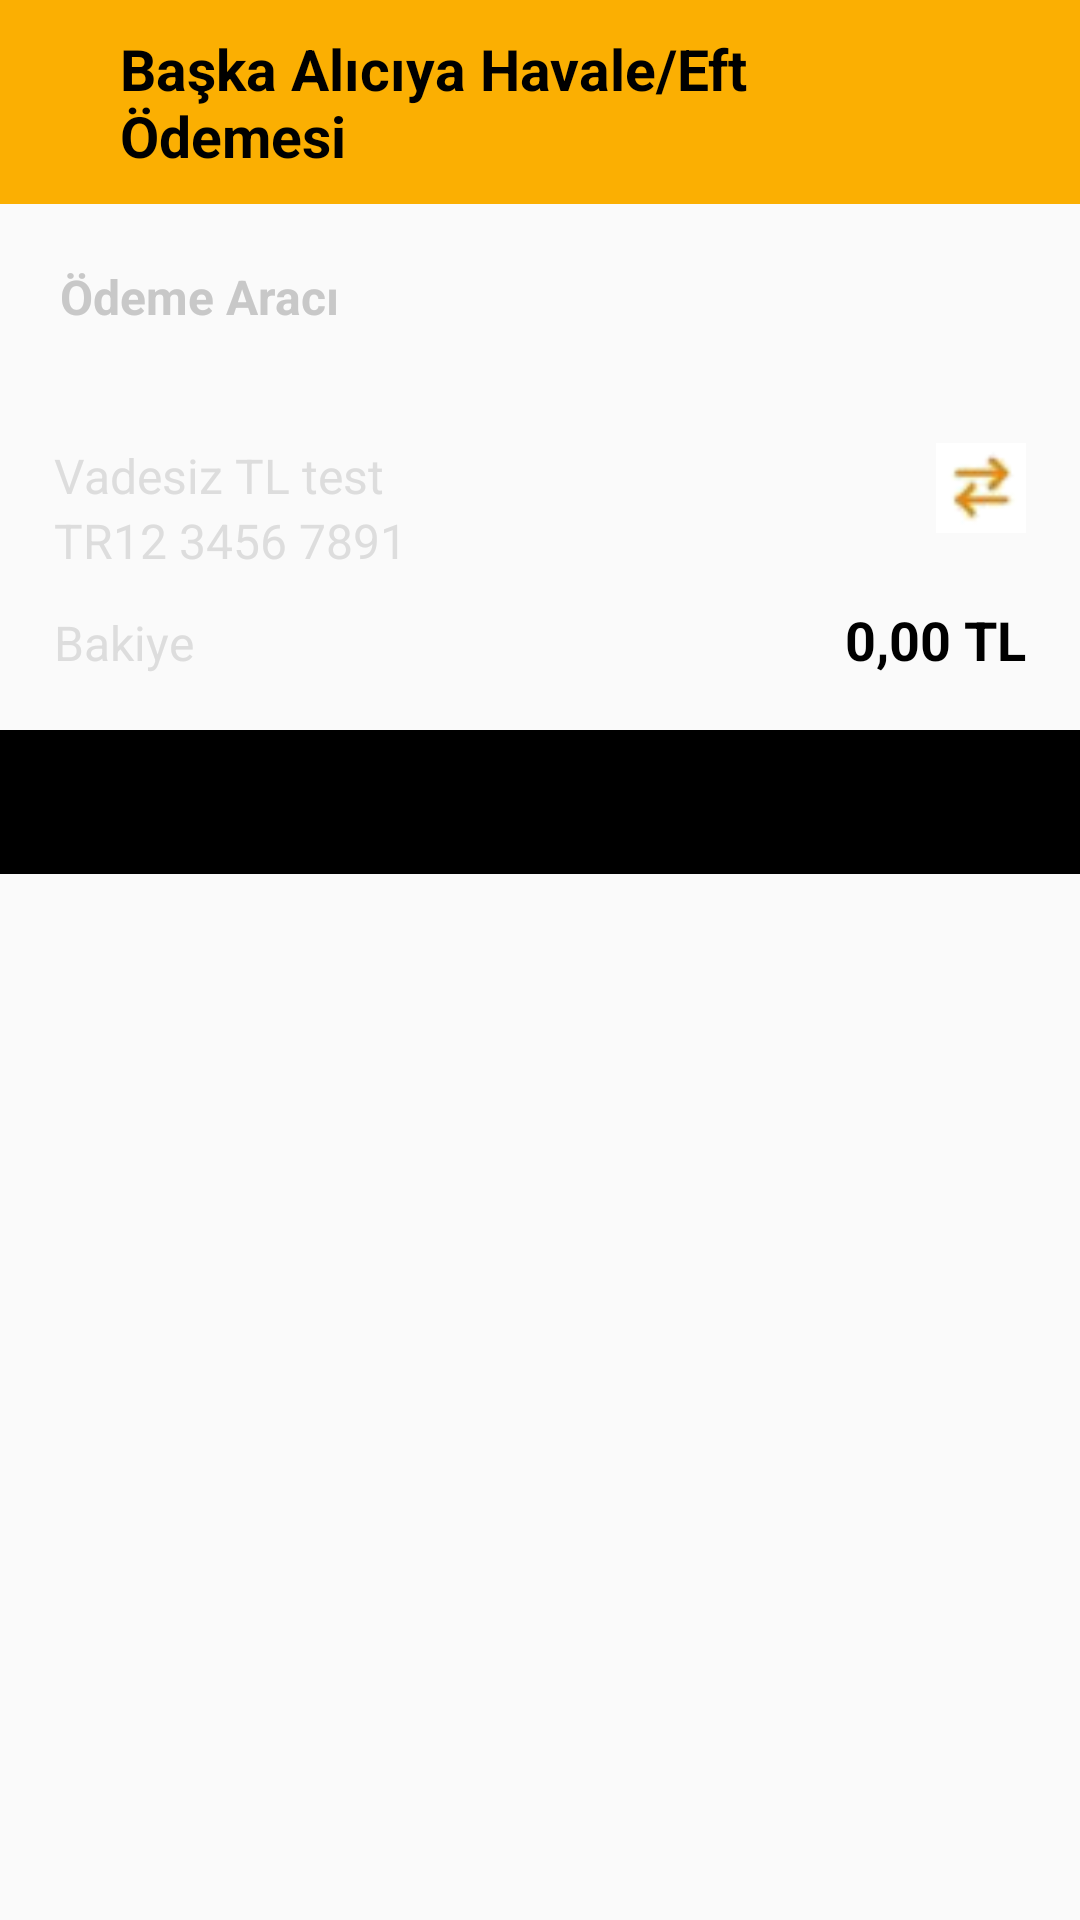

Icon bounding boxes for this 1080 x 1920 phone screenshot, format (left=x1, top=y1, right=x2, bottom=y2):
change: (left=953, top=456, right=1012, bottom=520)
